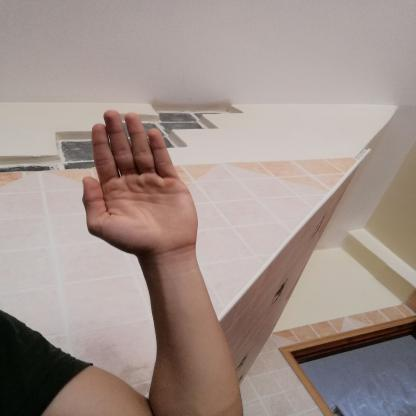SEEN: (68, 100, 213, 264)
